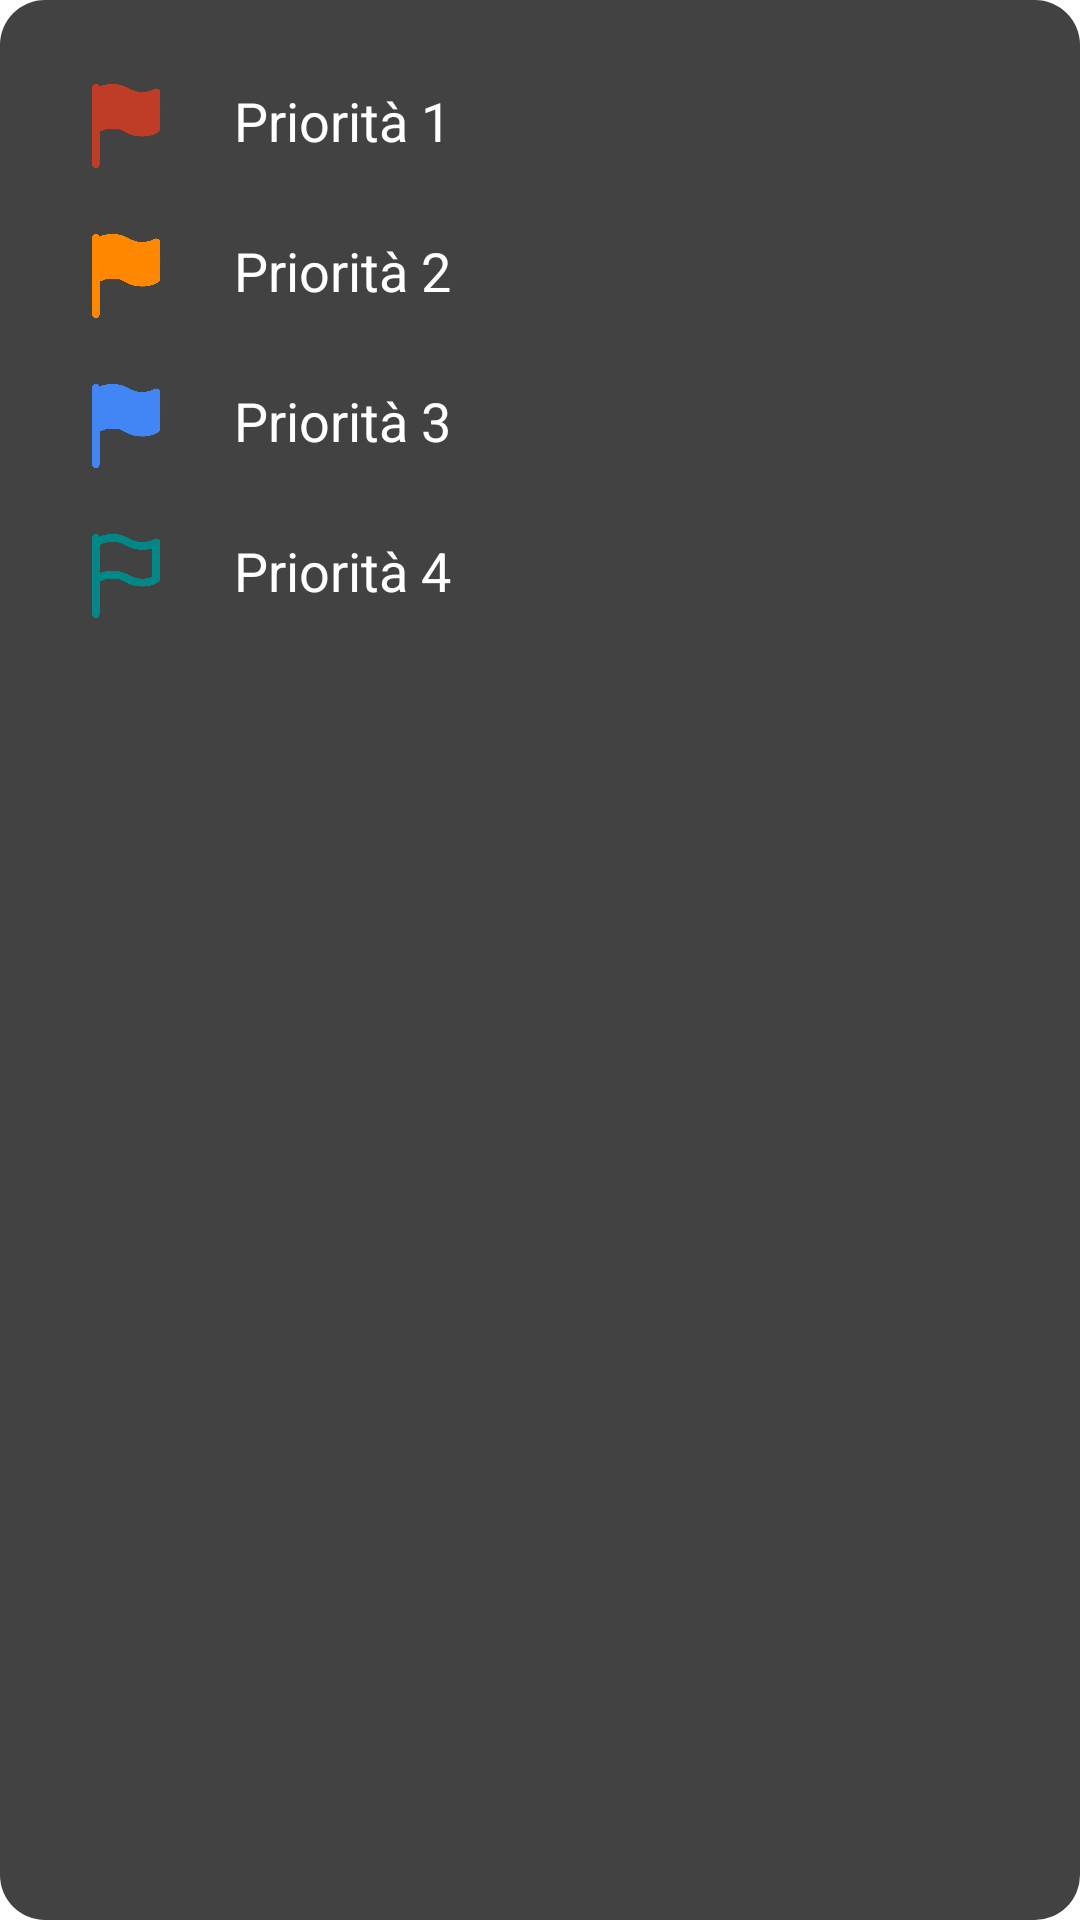

Icon bounding boxes for this 1080×1920 phone screenshot, format region(x1, y1, x2, y2):
flag: region(92, 534, 160, 618)
flag full: region(92, 84, 160, 168), region(92, 234, 160, 318), region(92, 384, 160, 468)
